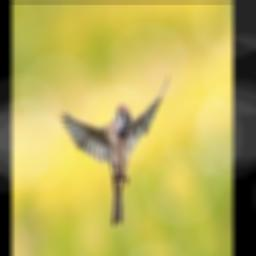Sparrow: (57, 73, 168, 225)
